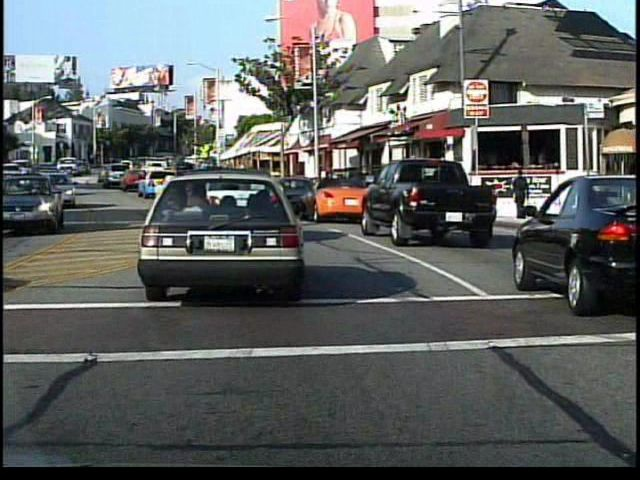person: (512, 167, 533, 228)
